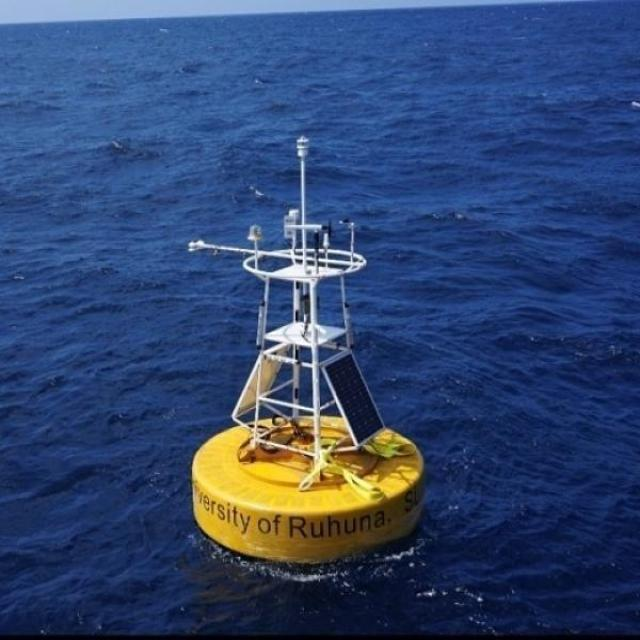buoy: (191, 134, 431, 563)
